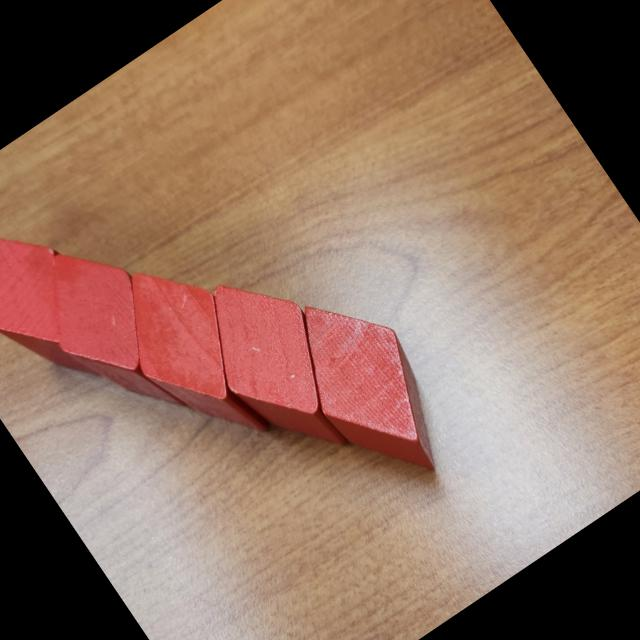red: (268, 272, 472, 504), (177, 254, 380, 484), (94, 243, 295, 472), (17, 228, 208, 447), (0, 208, 129, 409)
